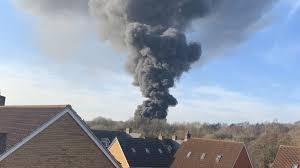Smoke: (89, 2, 199, 117)
